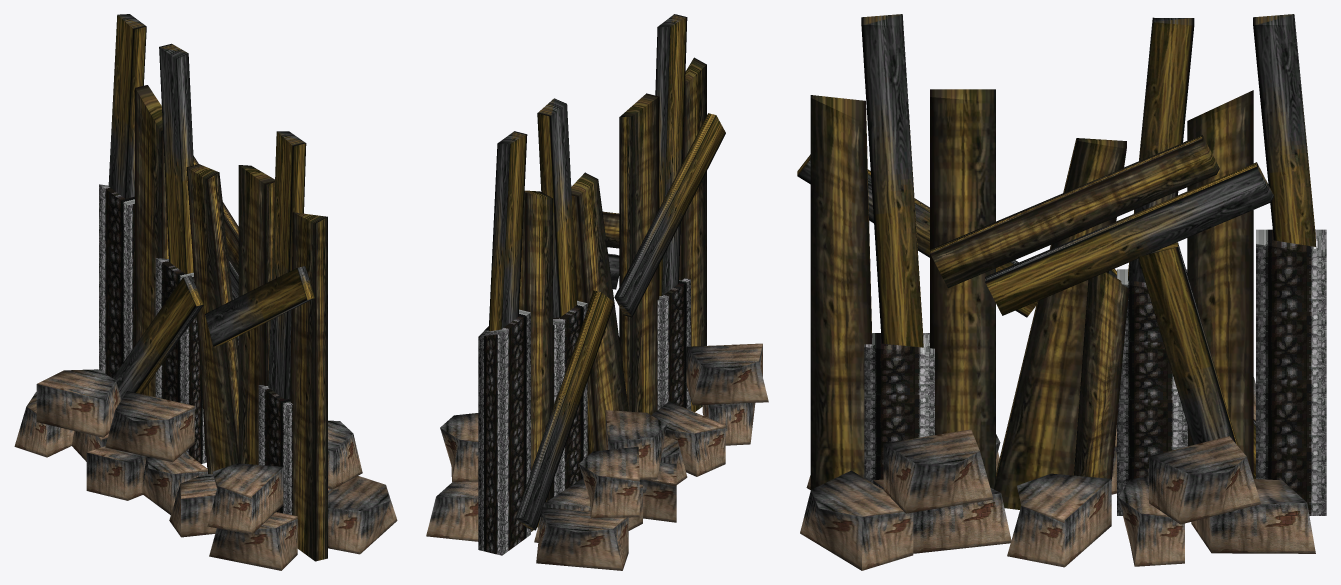
File: CB_WOOD_BARACADE03.fbx
The picture shows the model from 3 angles, left to right: view 1: azimuth 30°, elevation 25°; view 2: azimuth 150°, elevation 25°; view 3: azimuth 270°, elevation 25°; orthographic projection. The views are drawn at different scales.
Visible parts, largest first — view 1: CB_WOOD_BARACADE03; view 2: CB_WOOD_BARACADE03; view 3: CB_WOOD_BARACADE03.
Boxes of the visible parts, left/top/right/bottom form: CB_WOOD_BARACADE03: left=14, top=14, right=397, bottom=570; CB_WOOD_BARACADE03: left=426, top=14, right=768, bottom=570; CB_WOOD_BARACADE03: left=797, top=14, right=1326, bottom=570.
Size of the model in its own units: 20786 by 37605 by 36439.
Materials: 4 (4 with a texture image).
